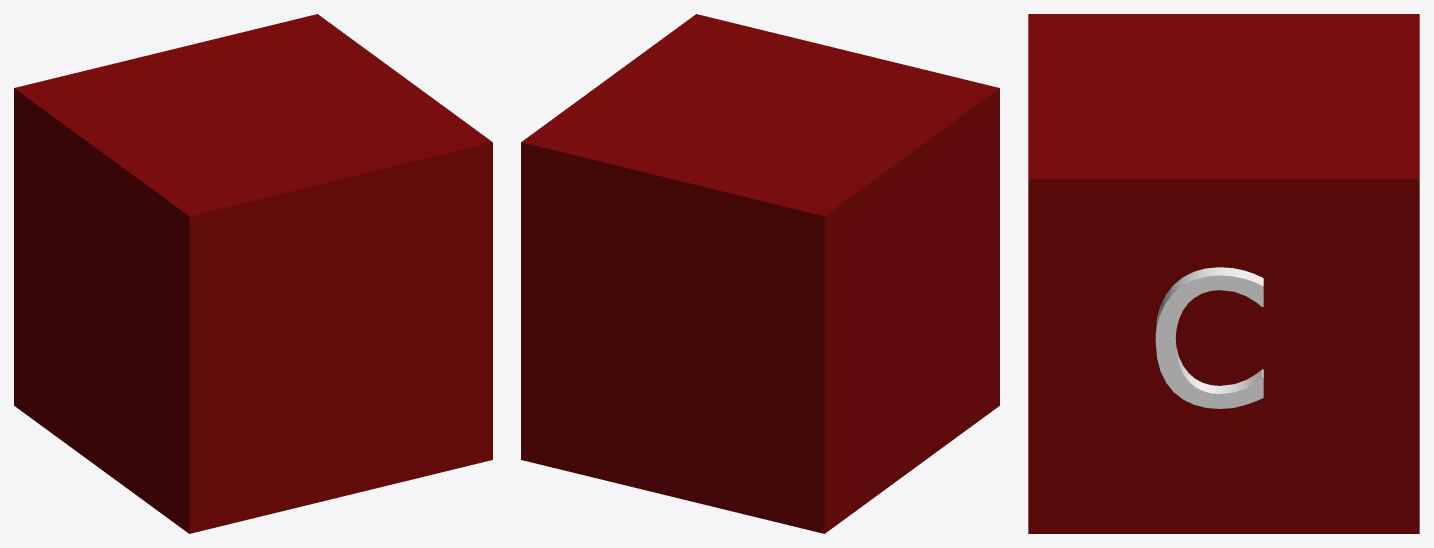
3 renders of one model, left to right at view 1: azimuth 30°, elevation 25°; view 2: azimuth 150°, elevation 25°; view 3: azimuth 270°, elevation 25°, orthographic. The views are drawn at different scales.
Parts seen in each view (by area): view 1: SketchUp; view 2: SketchUp; view 3: SketchUp, C_1.
Part boxes in pixels (bbox=[...]): SketchUp: bbox=[14, 14, 492, 533]; SketchUp: bbox=[521, 14, 999, 533]; SketchUp: bbox=[1028, 14, 1419, 533]; C_1: bbox=[1155, 267, 1263, 408].
Bounding box in the file's own units: 21 × 20 × 20.
